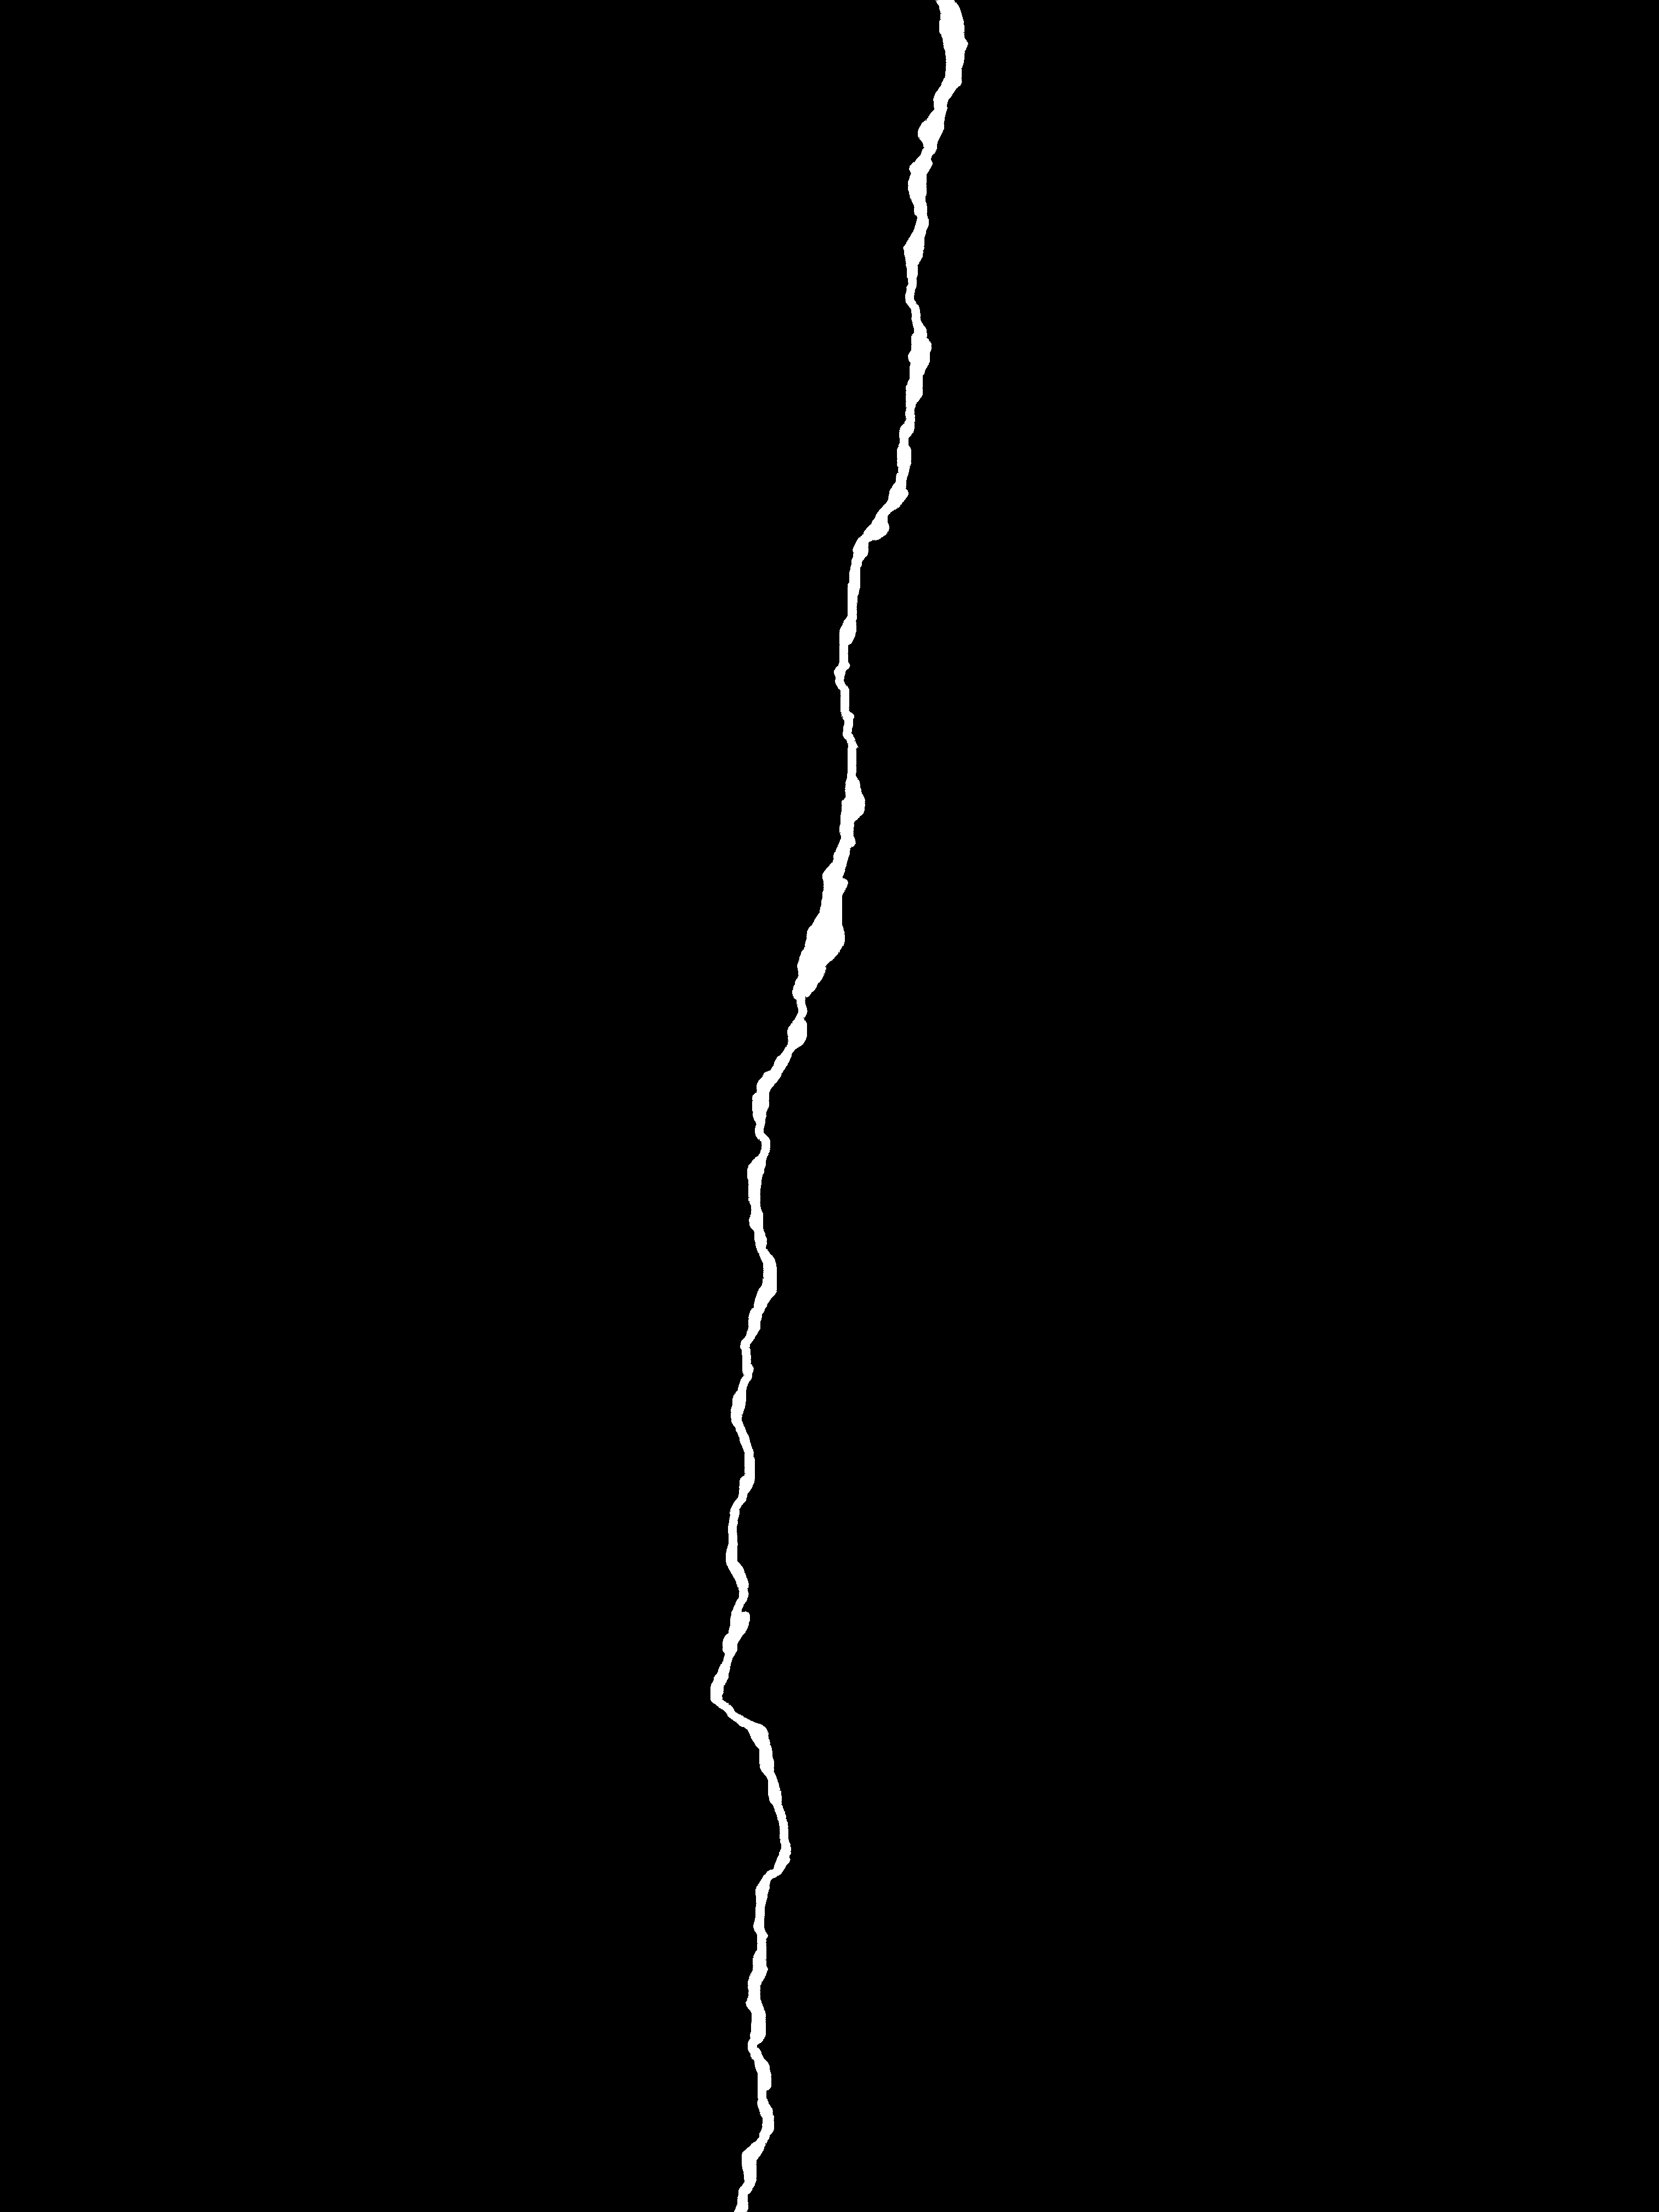Crack: (676, 0, 992, 2212)
